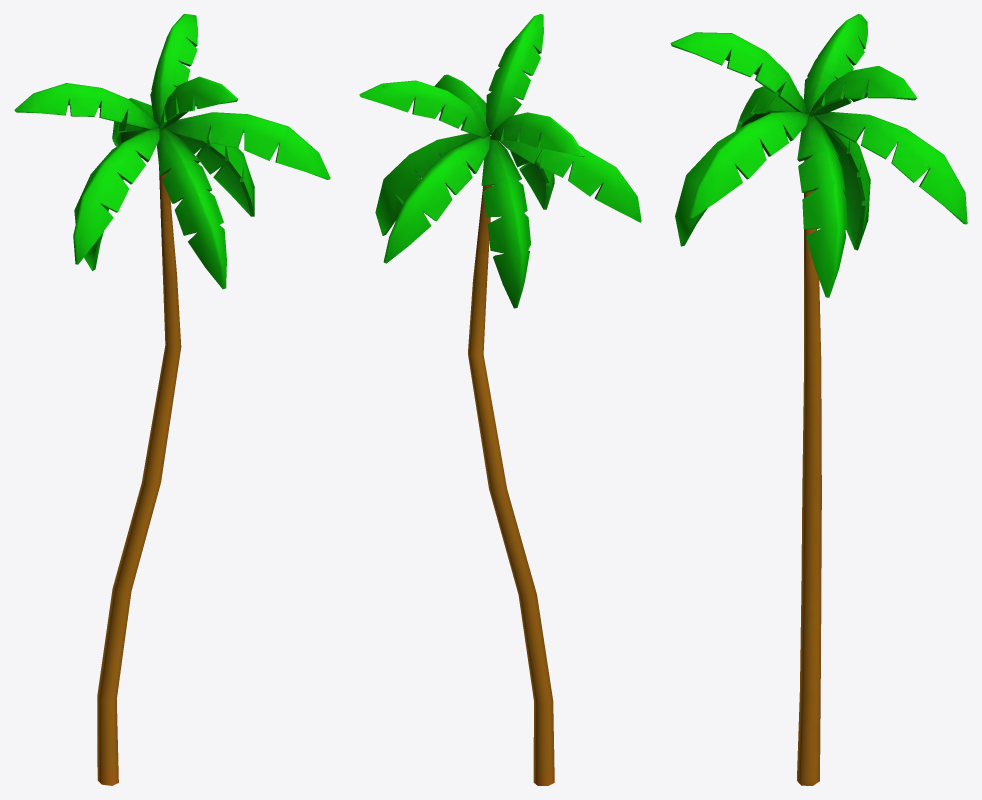
The model's file is Palm 03.glb.
3 renders of one model, left to right at view 1: azimuth 30°, elevation 25°; view 2: azimuth 150°, elevation 25°; view 3: azimuth 270°, elevation 25°, orthographic. The views are drawn at different scales.
Visible parts, largest first — view 1: Palm_03; view 2: Palm_03; view 3: Palm_03.
Part boxes in pixels (bbox=[...]): Palm_03: bbox=[14, 14, 330, 785]; Palm_03: bbox=[359, 14, 641, 785]; Palm_03: bbox=[670, 14, 967, 785].
Bounding box in the file's own units: 7.78 × 22.67 × 7.82.
Materials: 1 (1 with a texture image).
